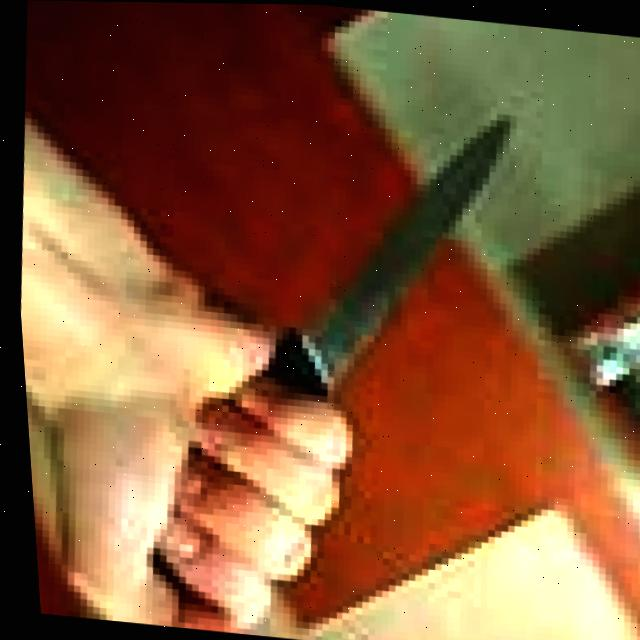knife: (249, 89, 528, 413)
